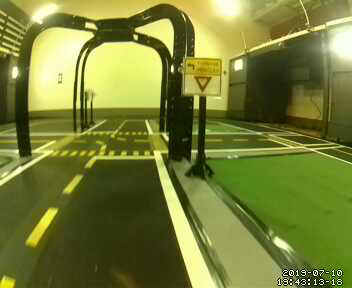Turn Yield: (183, 57, 223, 97)
